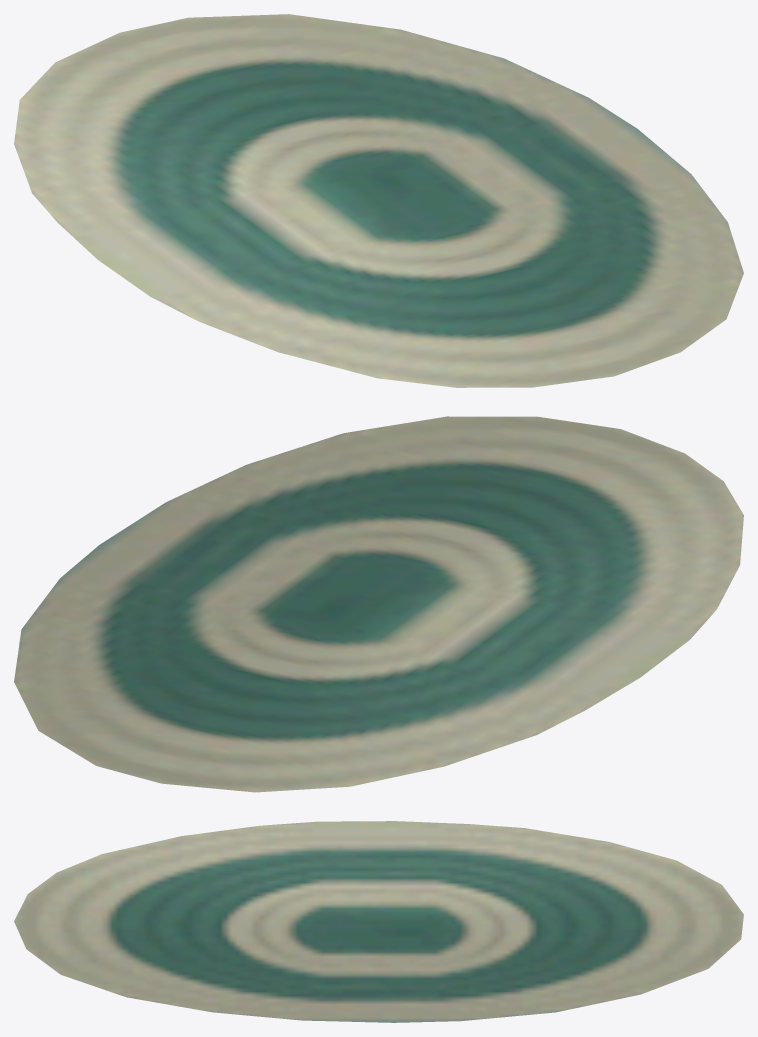
The model's file is JRug.glb.
3 renders of one model, top to bottom at view 1: azimuth 30°, elevation 25°; view 2: azimuth 150°, elevation 25°; view 3: azimuth 270°, elevation 25°, orthographic. The views are drawn at different scales.
Parts seen in each view (by area): view 1: JRug; view 2: JRug; view 3: JRug.
Part boxes in pixels (left/top/right/bottom): JRug: left=14, top=14, right=743, bottom=387; JRug: left=14, top=416, right=743, bottom=792; JRug: left=14, top=821, right=743, bottom=1022.
Size of the model in its own units: 345 by 0 by 527.
1 material, 1 textured.
